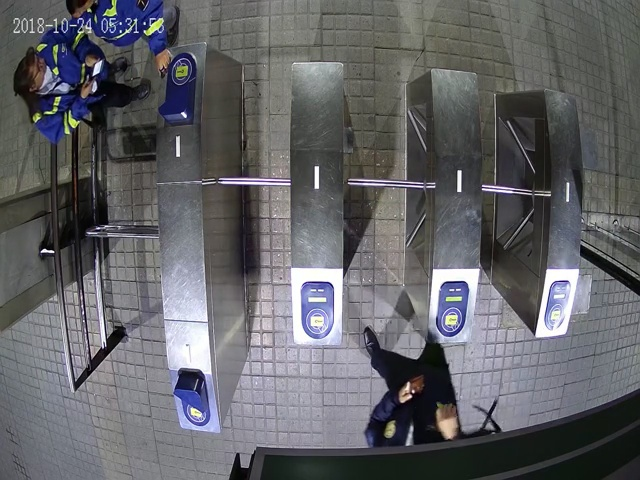Chaleco_azul: (13, 19, 151, 142), (64, 1, 180, 77)
